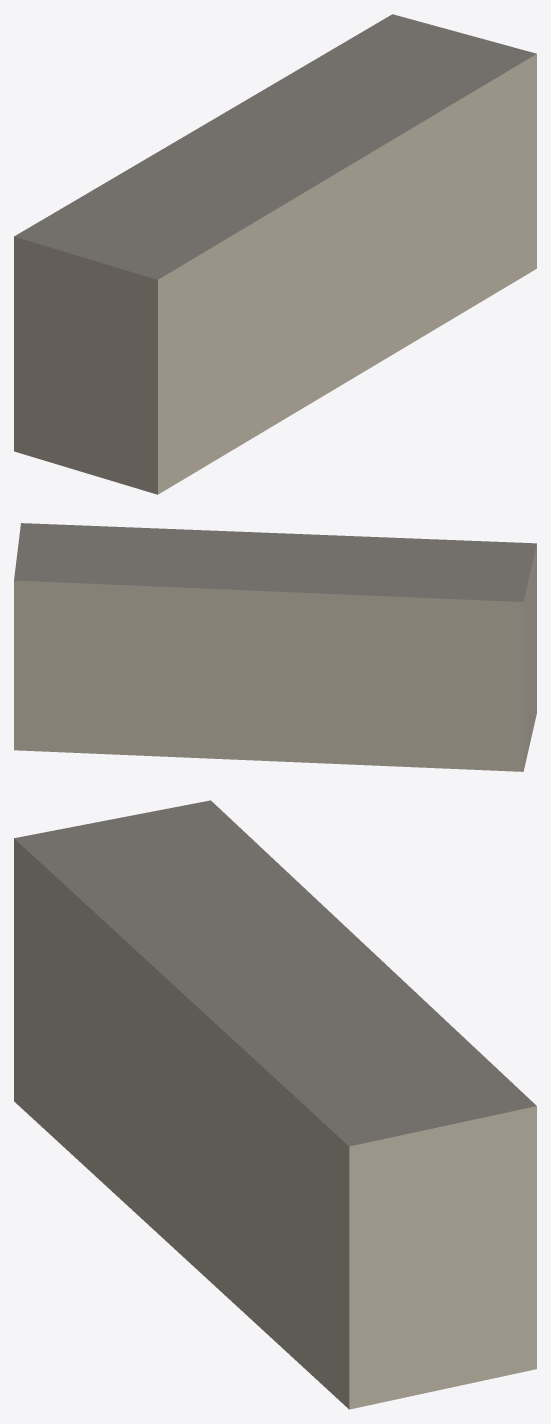
3 views of the same model, one above another, from view 1: azimuth 30°, elevation 25°; view 2: azimuth 150°, elevation 25°; view 3: azimuth 270°, elevation 25° (orthographic). The views are drawn at different scales.
Visible parts, largest first — view 1: HP-w505633428; view 2: HP-w505633428; view 3: HP-w505633428.
Boxes of the visible parts, left/top/right/bottom form: HP-w505633428: left=14, top=14, right=536, bottom=494; HP-w505633428: left=14, top=523, right=536, bottom=771; HP-w505633428: left=14, top=800, right=536, bottom=1409.
Bounding box in the file's own units: 33.86 × 12 × 21.62.
